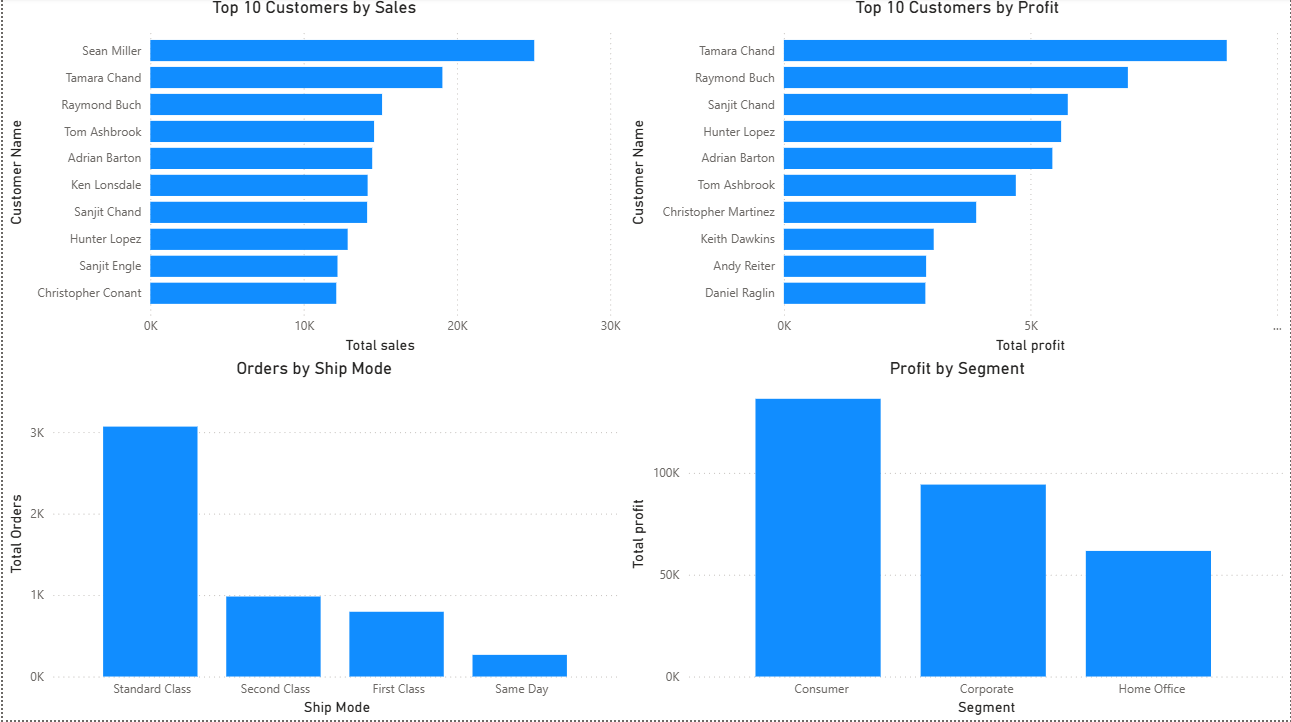

Layout of this report page (visuals, bound fields, positions):
{"tool":"powerbi","page":{"name":"Customer & Order Analysis","canvas":[1280,720],"ordinal":5},"visuals":[{"type":"barChart","title":"Top 10 Customers by Sales","fields":{"Category":["samplesuperstore orgnal.Customer Name"],"Y":["samplesuperstore orgnal.Total sales"]},"box":[0,0,619.5,359.5],"z":0},{"type":"barChart","title":"Top 10 Customers by Profit","fields":{"Category":["samplesuperstore orgnal.Customer Name"],"Y":["samplesuperstore orgnal.Total profit"]},"box":[619.5,0,660.5,359.5],"z":1000},{"type":"clusteredColumnChart","title":"Profit by Segment","fields":{"Category":["samplesuperstore orgnal.Segment"],"Y":["meagures.Total profit"]},"box":[619.5,359.5,660.5,360.7],"z":3000},{"type":"clusteredColumnChart","title":"Orders by Ship Mode","fields":{"Category":["samplesuperstore orgnal.Ship Mode"],"Y":["meagures.Total Orders"]},"box":[0,359.5,619.5,360.7],"z":4000}]}

Visuals, with their boxes in screenshot pixels (x1, y1, x2, y2), scaled from the page's 1280x720 canvas onto the 1291x722 screenshot:
"Top 10 Customers by Sales" barChart: x1=0 y1=0 x2=625 y2=360
"Top 10 Customers by Profit" barChart: x1=625 y1=0 x2=1290 y2=360
"Profit by Segment" clusteredColumnChart: x1=625 y1=360 x2=1290 y2=721
"Orders by Ship Mode" clusteredColumnChart: x1=0 y1=360 x2=625 y2=721
